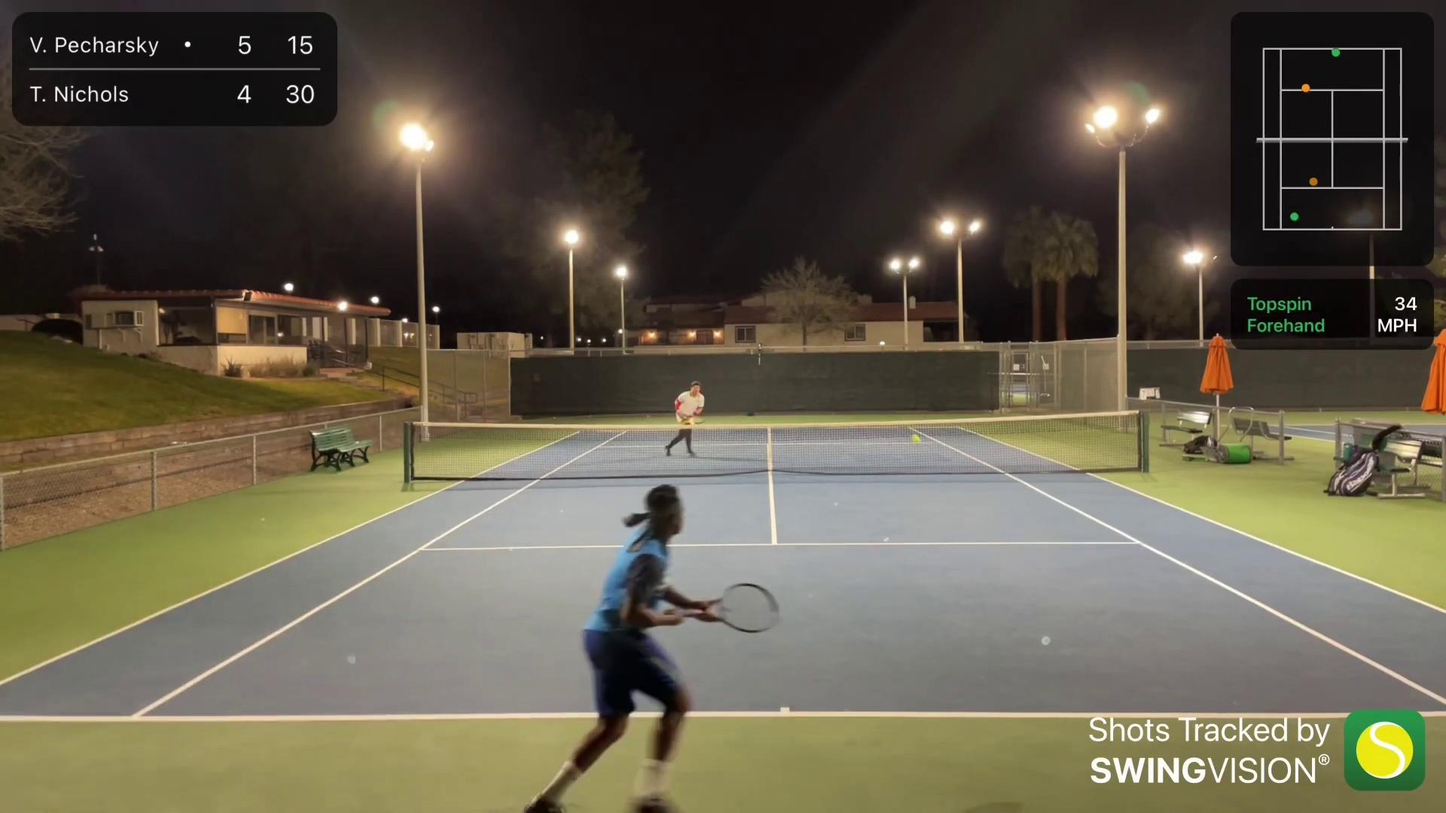ball: (909, 431, 924, 447)
